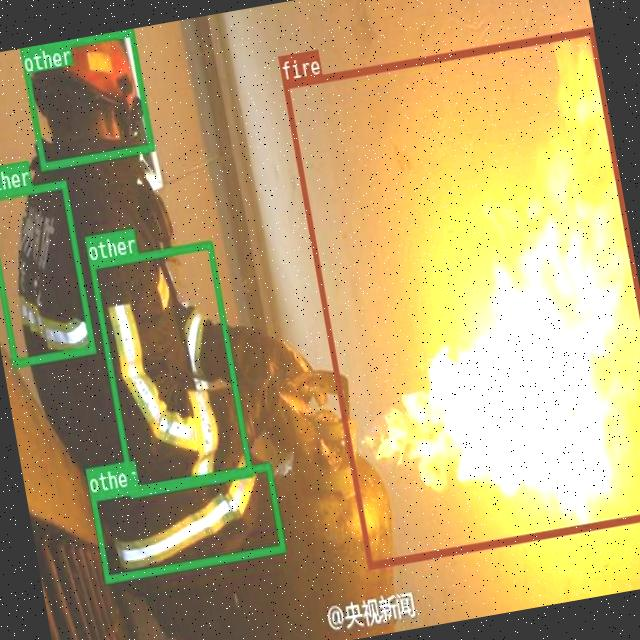fire: (282, 26, 640, 566)
